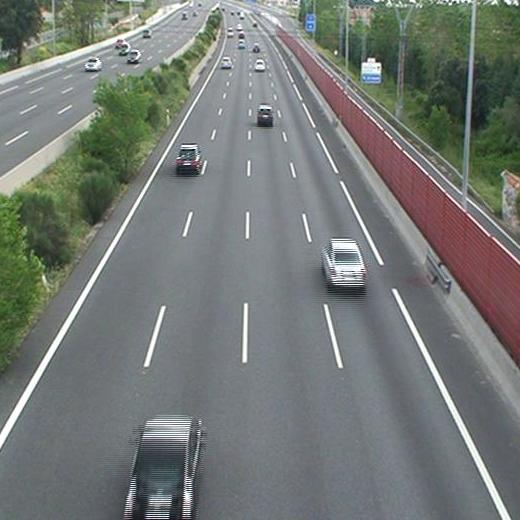car: (122, 416, 201, 520), (320, 240, 367, 287), (176, 145, 200, 169), (258, 105, 272, 123), (254, 59, 265, 71), (221, 57, 231, 69), (252, 43, 260, 52), (238, 40, 245, 49)
